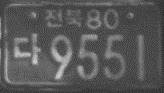0: (103, 7, 120, 30)
1: (135, 33, 149, 83)
5: (101, 33, 126, 80), (76, 33, 100, 80)
8: (86, 7, 101, 30)
9: (49, 34, 73, 79)
다: (13, 32, 41, 66)
전북_O: (44, 7, 83, 30)
